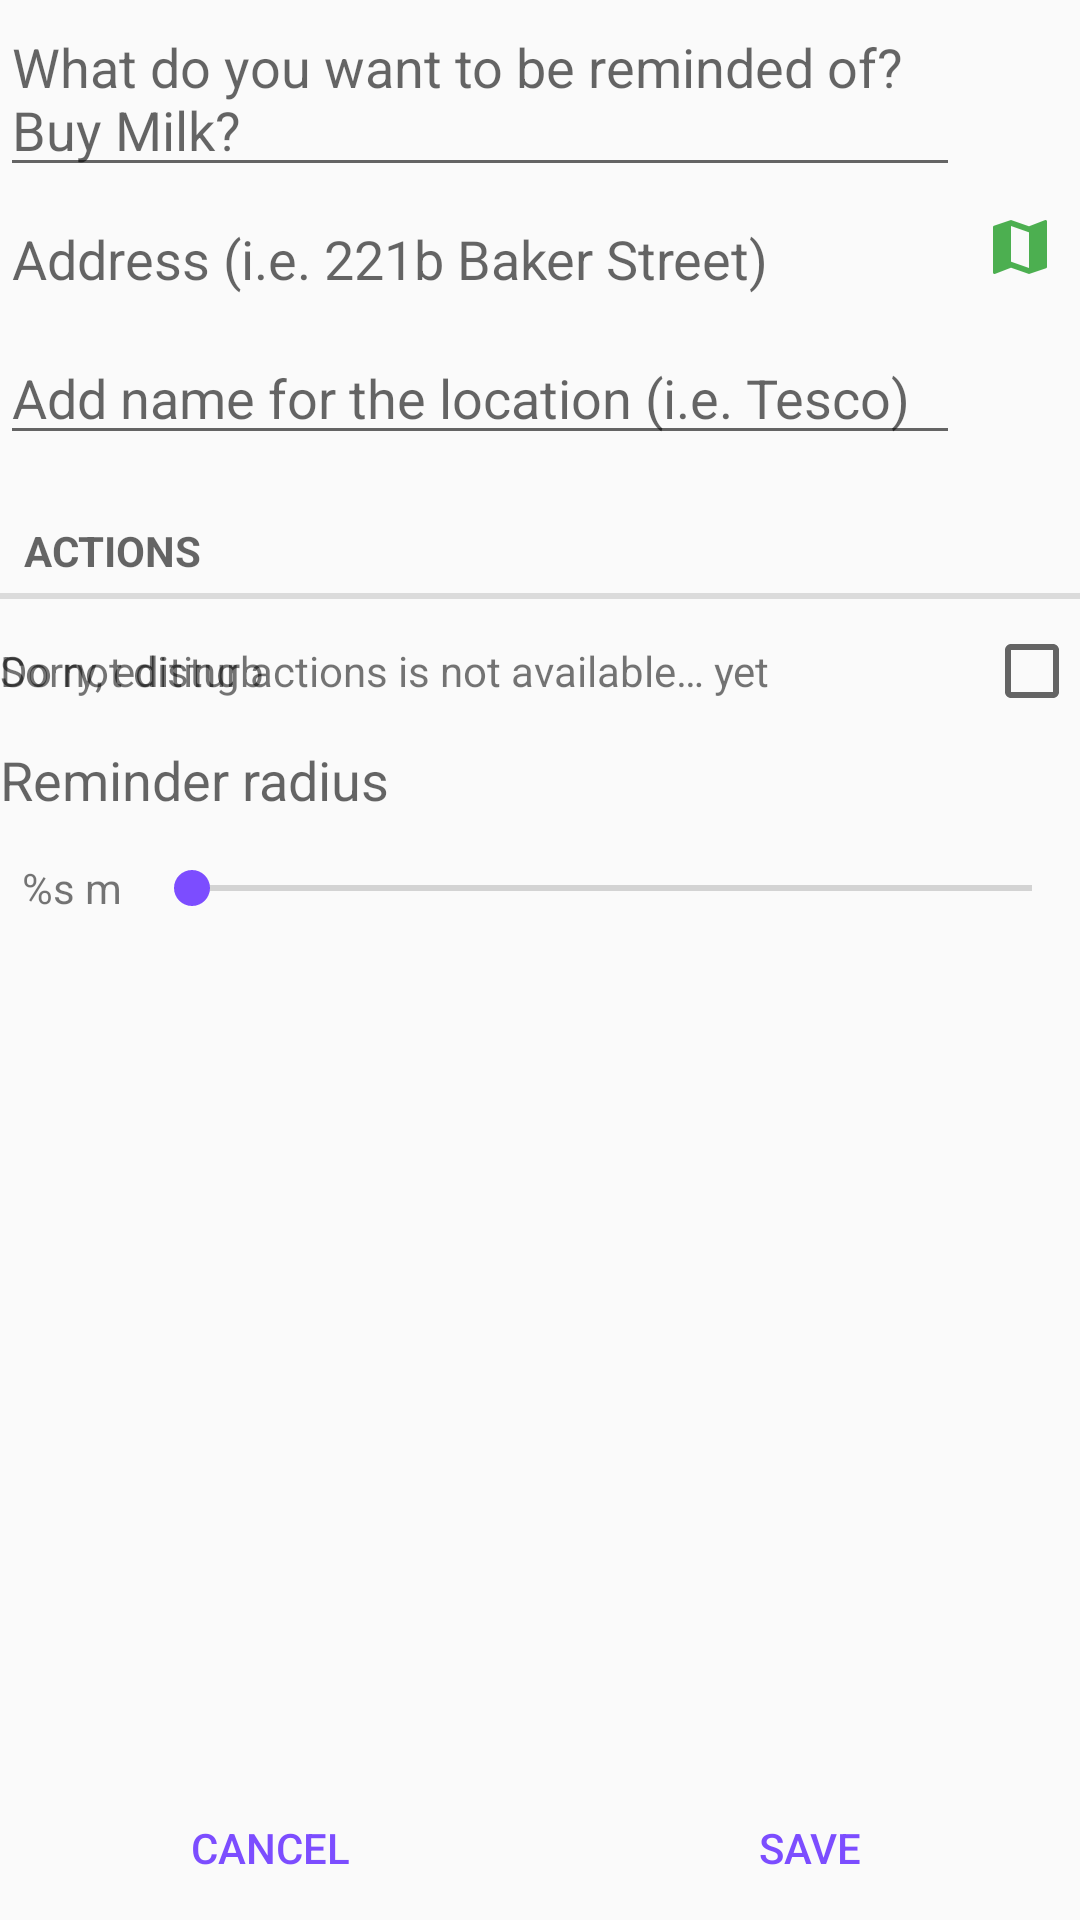

Screen size 1080 × 1920. Icon name, then its center in pixels as (x,y):
maps map: (1020,247)
